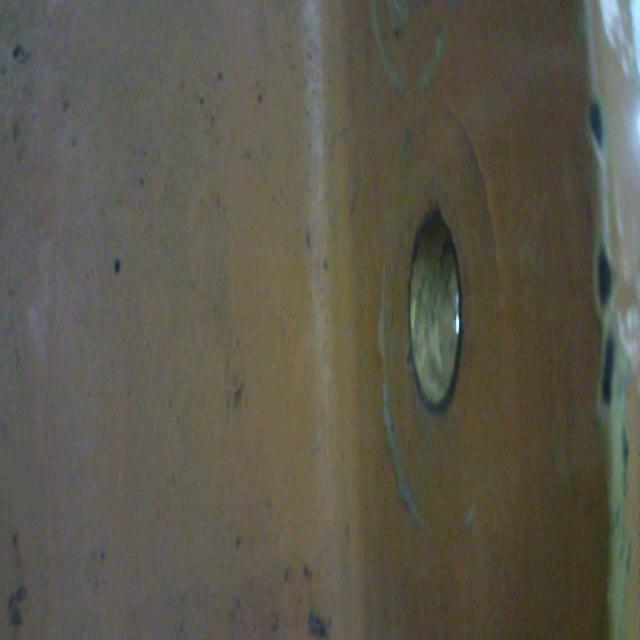Missing bolt: (406, 199, 469, 412)
